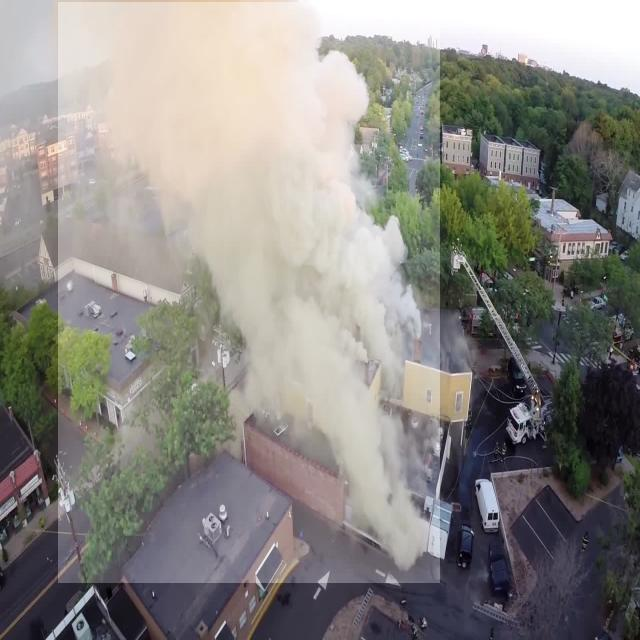Smoke: (58, 2, 440, 583)
